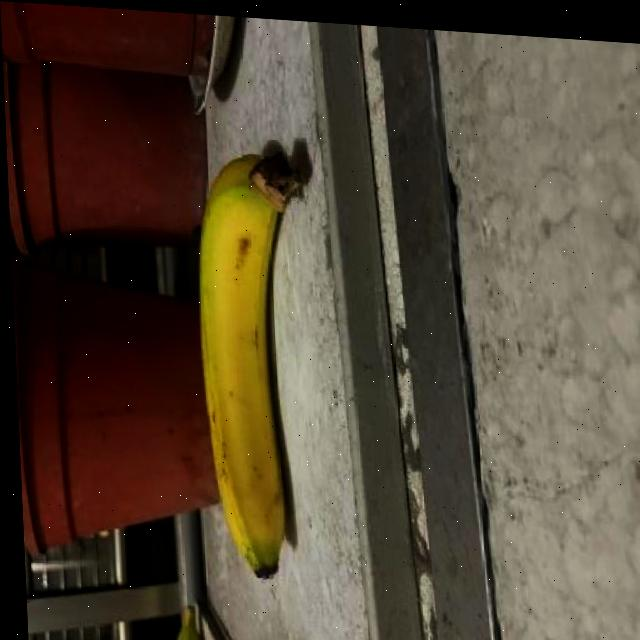banana: (183, 137, 326, 592)
